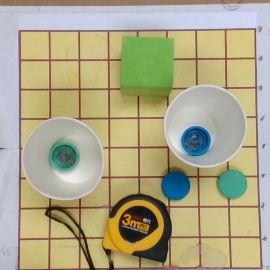cup_blue: (163, 84, 248, 169)
cup_green: (24, 117, 106, 202)
